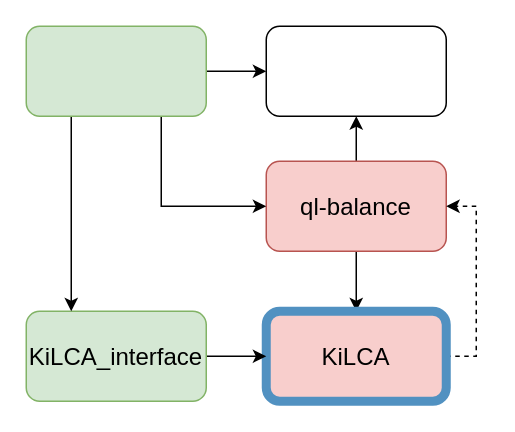
This 515x432 diagram has some shape labels left out. The centre of each missing label's shape, as x and y in pixels:
"Balance" belongs at [115,70].
"Output" belongs at [355,70].
